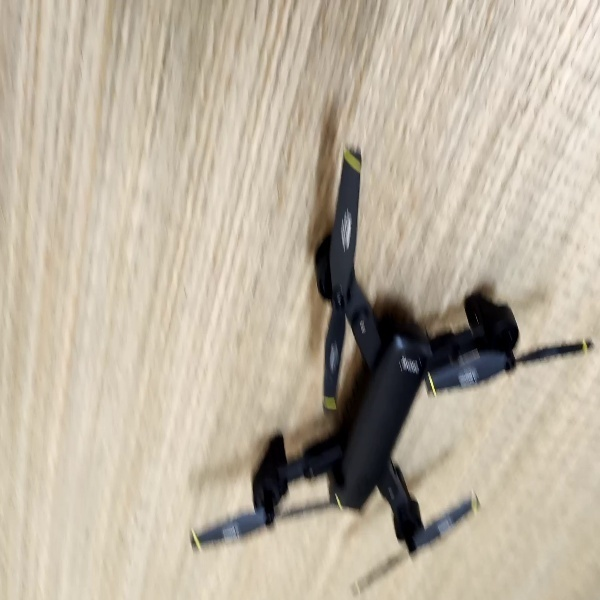drone: (185, 142, 595, 600)
